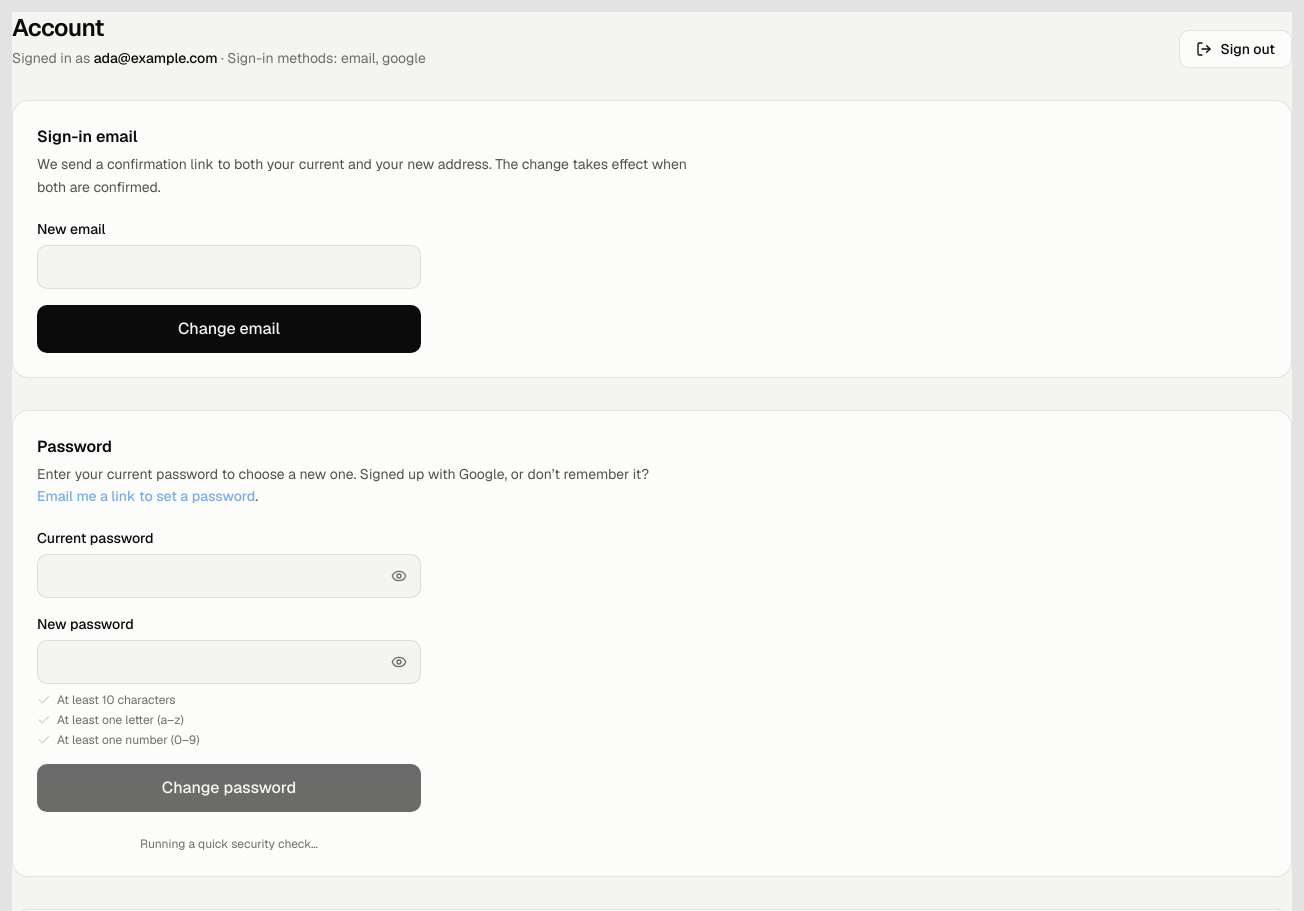
Test: AccountSettings › changing the email › starts the change and shows it as waiting for both inboxes
Type "new@example.com" into the field labelled "New email" at [229, 266], box [37, 244, 421, 288]
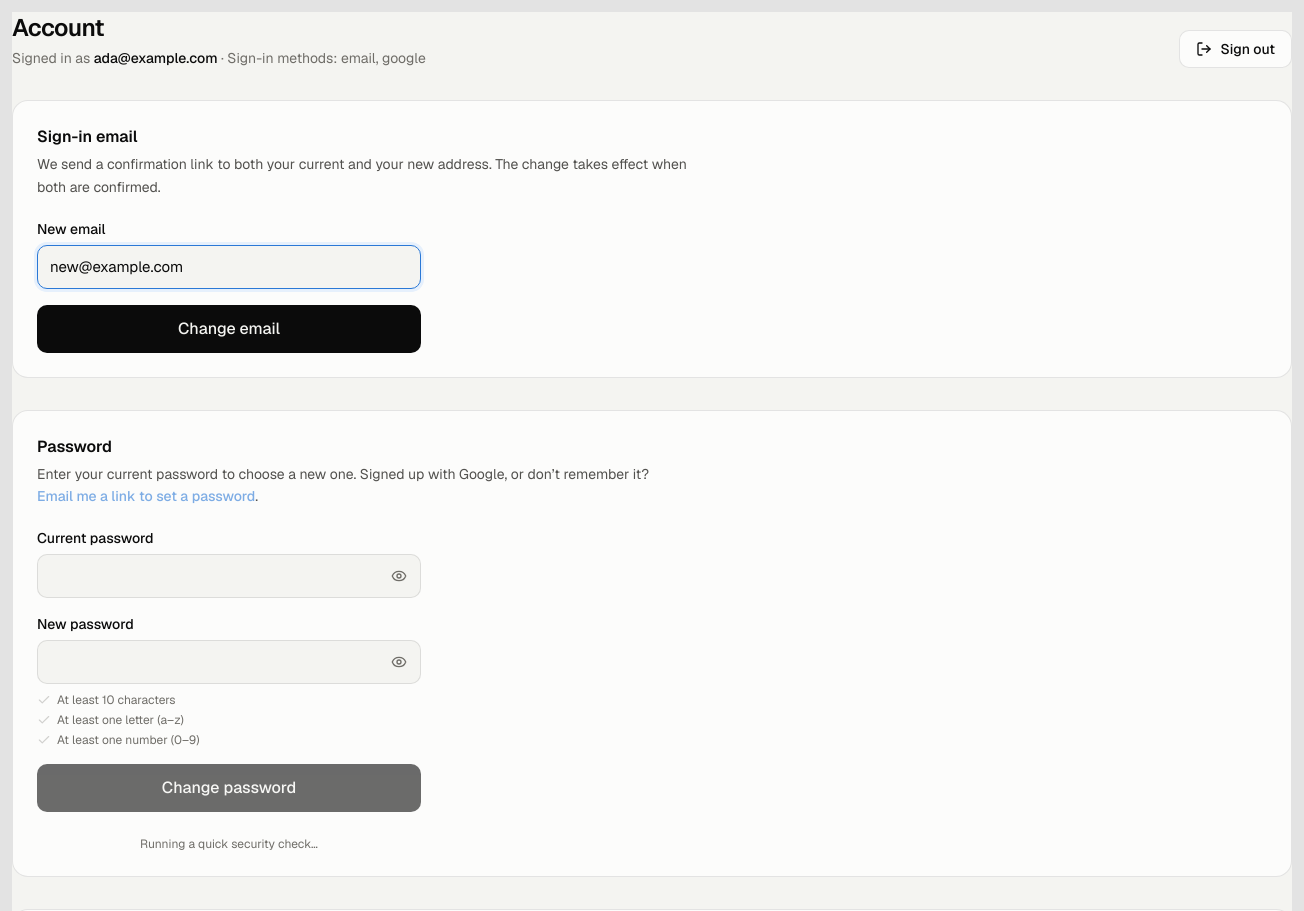
Click the button "Change email" at [229, 328], box [37, 304, 421, 352]
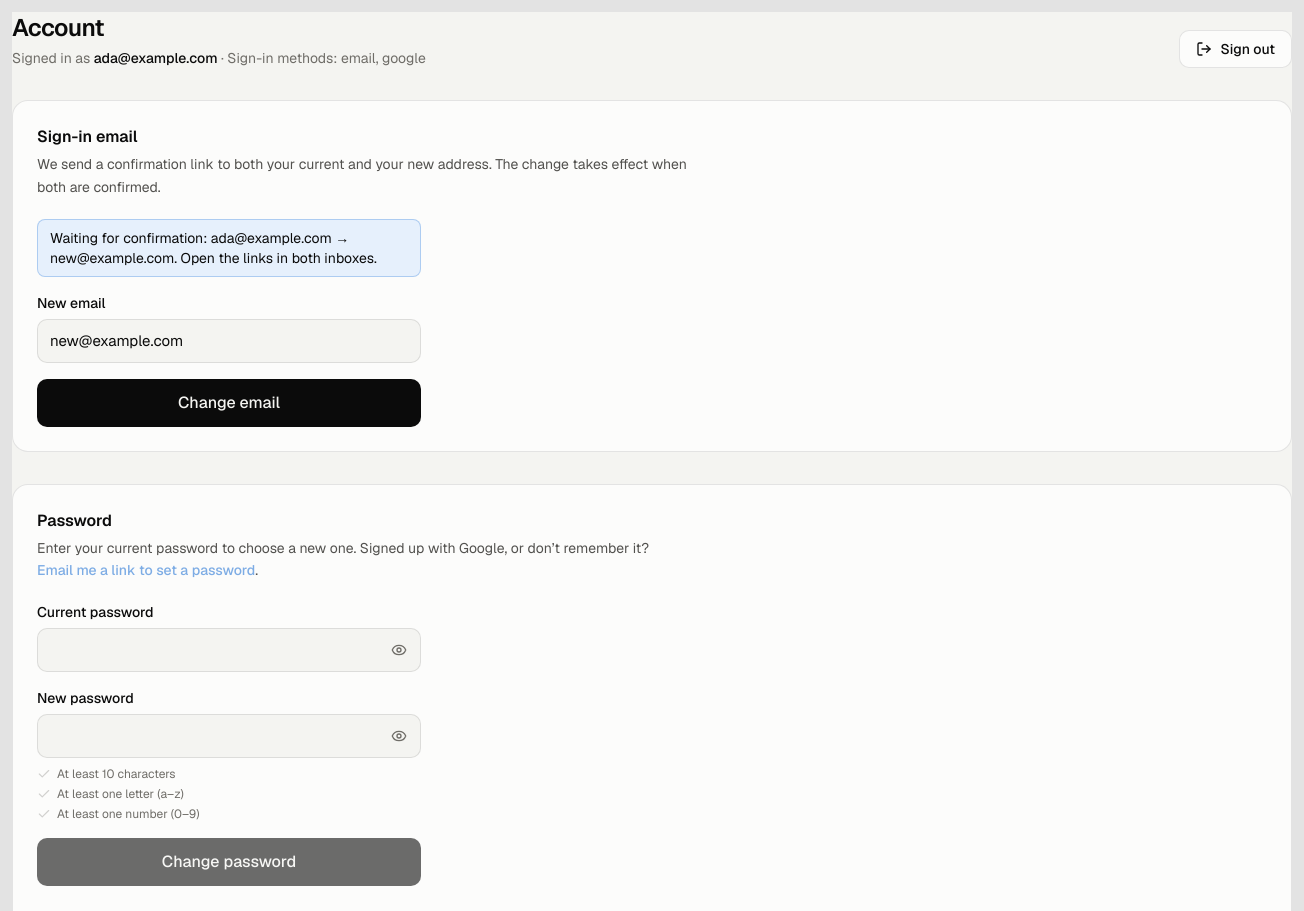
Expected: the 1st message shows "Waiting for confirmation: ada@example.com → new@example.com.", [50, 228, 377, 266]
